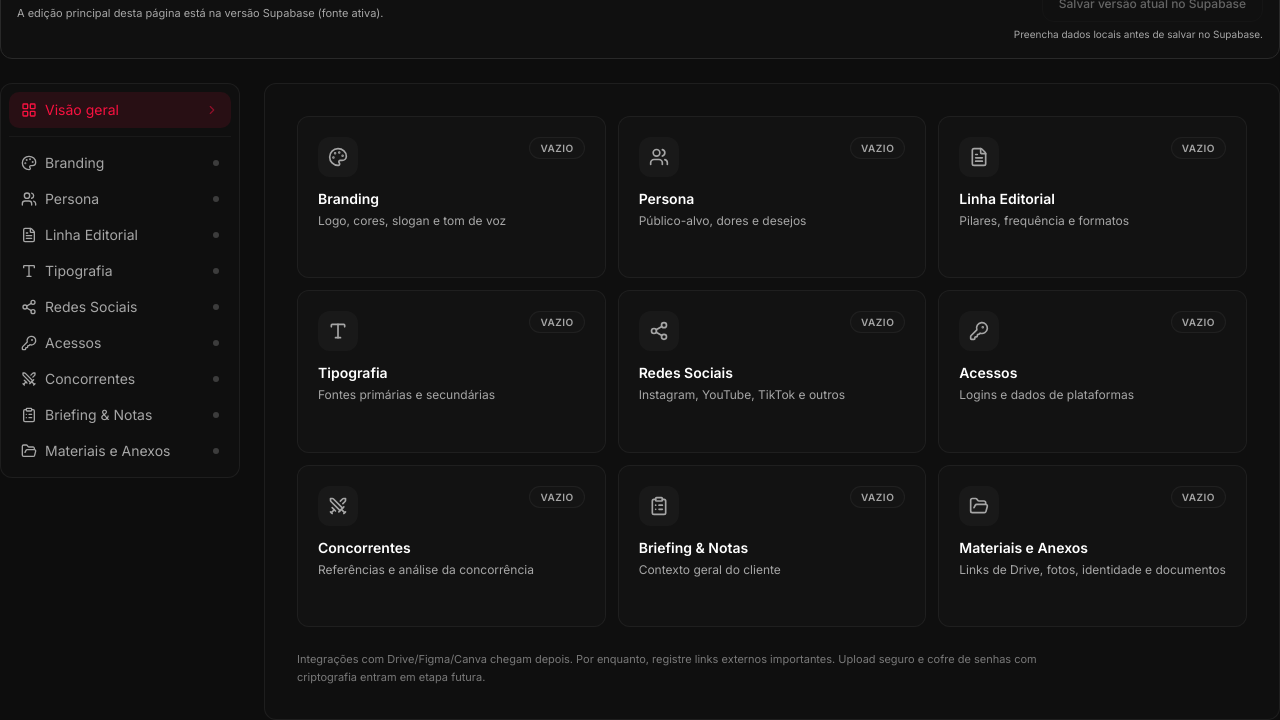
Scenario: ClientTechnicalSheet — G82 (cliente só-nuvem, id uuid) › salvar uma seção grava NA NUVEM pelo caminho nativo (upsert com o uuid) e NUNCA chama updateClient local — sem nenhum flag setado
(page scrolled)
Click the button "Briefing & Notas" at (120, 415), box x1=9 y1=397 x2=231 y2=433
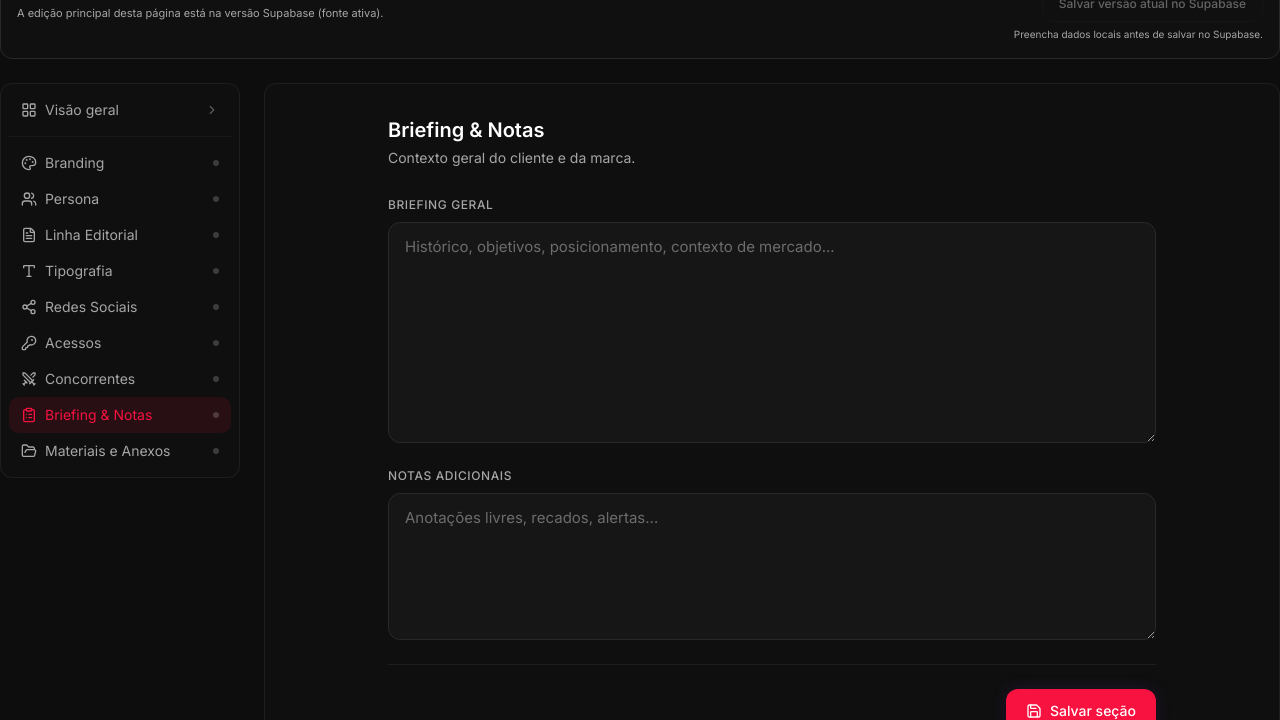
Type "briefing de teste G82" into the text box with placeholder "Histórico, objetivos" at (772, 332), box x1=388 y1=222 x2=1156 y2=443
(page scrolled)
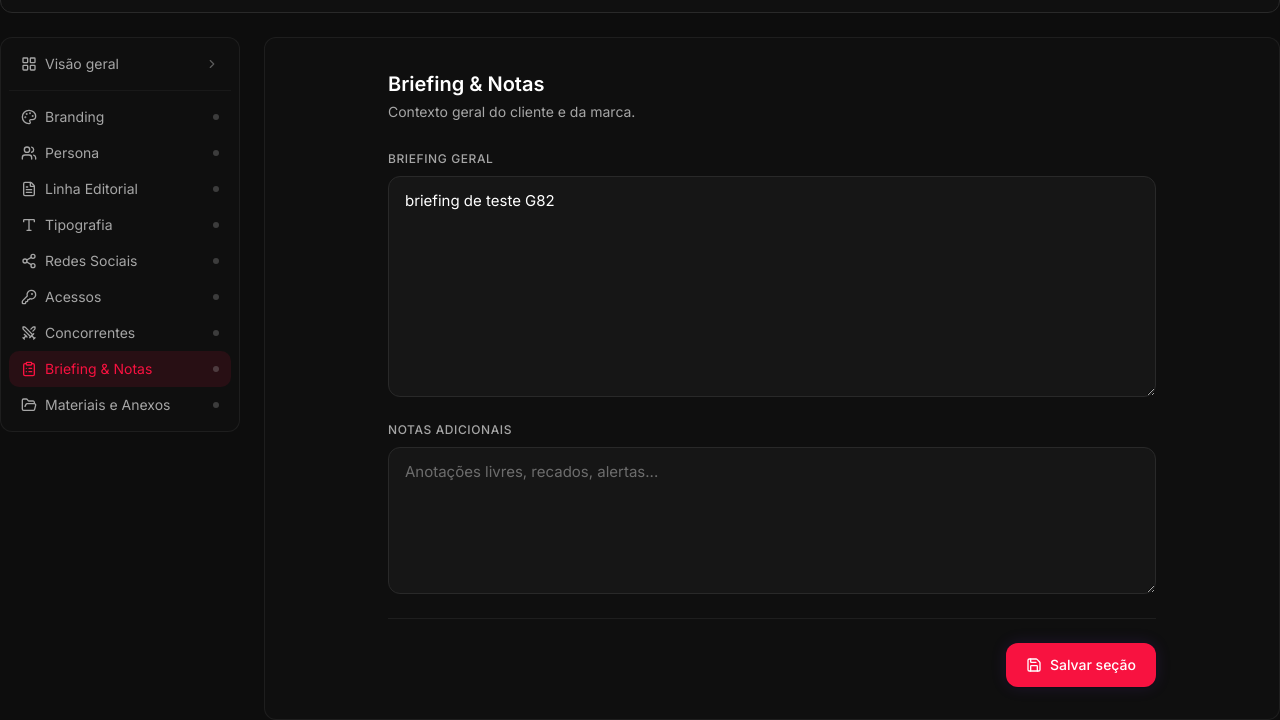
Click the button "Salvar seção" at (1081, 666), box x1=1006 y1=644 x2=1156 y2=688
(page scrolled)
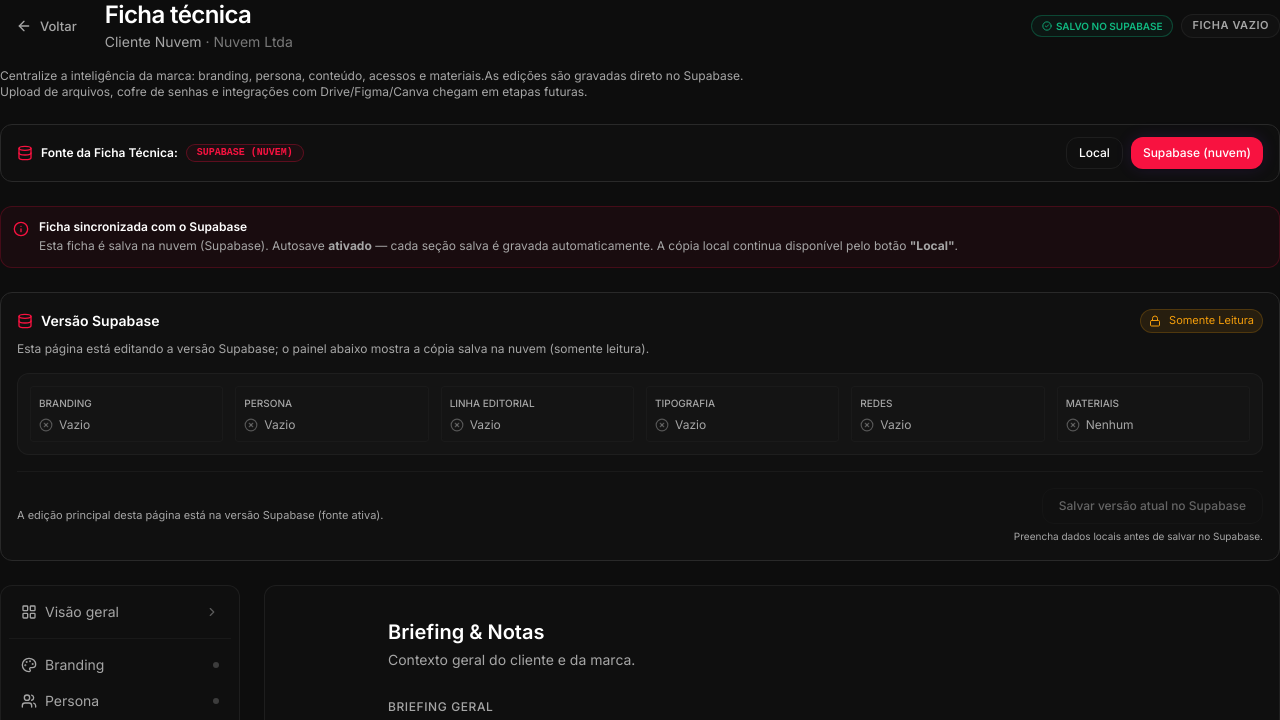
Check: the text "Salvo no Supabase" is shown, box x1=1031 y1=15 x2=1174 y2=37
